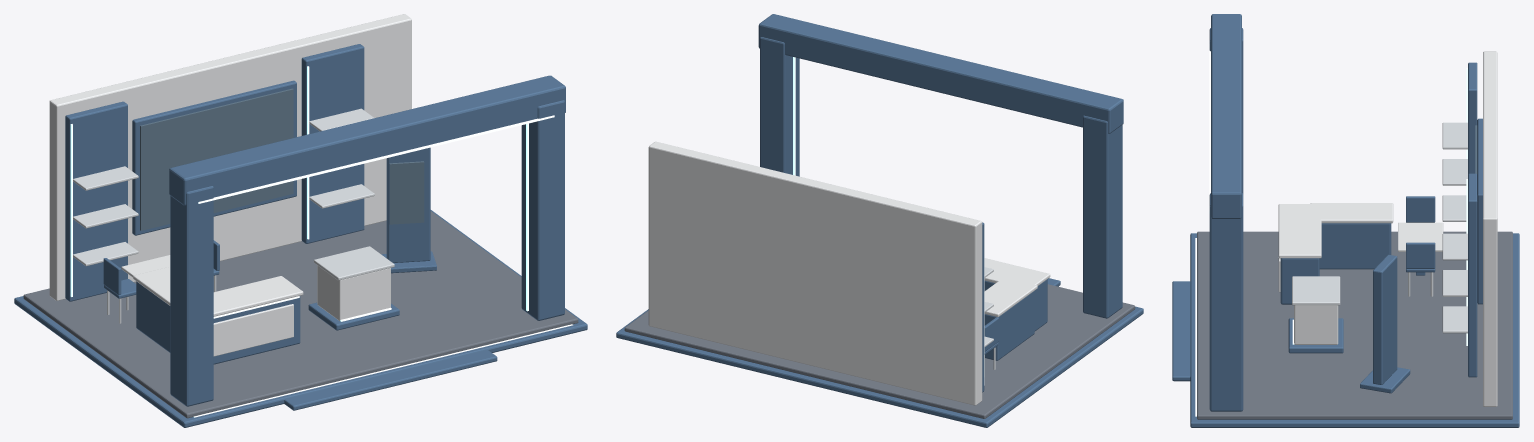
File: booth_03_grand_portal_v27_4.glb
3 renders of one model, left to right at view 1: azimuth 30°, elevation 25°; view 2: azimuth 150°, elevation 25°; view 3: azimuth 270°, elevation 25°, orthographic. The views are drawn at different scales.
Visible parts, largest first — view 1: MatGroup_DeepPortalNavy, MatGroup_DarkSlateFloor, MatGroup_TechMatteWhite, MatGroup_SmokedTechGlass, MatGroup_BrushedTitanium, MatGroup_LinearCyanLED; view 2: MatGroup_TechMatteWhite, MatGroup_DeepPortalNavy, MatGroup_DarkSlateFloor, MatGroup_LinearCyanLED; view 3: MatGroup_DeepPortalNavy, MatGroup_DarkSlateFloor, MatGroup_TechMatteWhite, MatGroup_BrushedTitanium, MatGroup_LinearCyanLED.
Boxes of the visible parts, x1,y1,x2,y2 form: MatGroup_DeepPortalNavy: [14, 44, 587, 427]; MatGroup_DarkSlateFloor: [23, 211, 578, 418]; MatGroup_TechMatteWhite: [49, 14, 411, 356]; MatGroup_SmokedTechGlass: [140, 88, 424, 230]; MatGroup_BrushedTitanium: [73, 108, 394, 323]; MatGroup_LinearCyanLED: [70, 66, 572, 417]; MatGroup_TechMatteWhite: [648, 141, 1050, 405]; MatGroup_DeepPortalNavy: [616, 14, 1143, 427]; MatGroup_DarkSlateFloor: [624, 284, 1135, 418]; MatGroup_LinearCyanLED: [793, 57, 984, 385]; MatGroup_DeepPortalNavy: [1172, 14, 1519, 427]; MatGroup_DarkSlateFloor: [1197, 231, 1512, 419]; MatGroup_TechMatteWhite: [1278, 51, 1497, 406]; MatGroup_BrushedTitanium: [1292, 122, 1467, 333]; MatGroup_LinearCyanLED: [1195, 44, 1467, 416].
Size of the model in its own units: 6.72 by 3.8 by 5.19.
